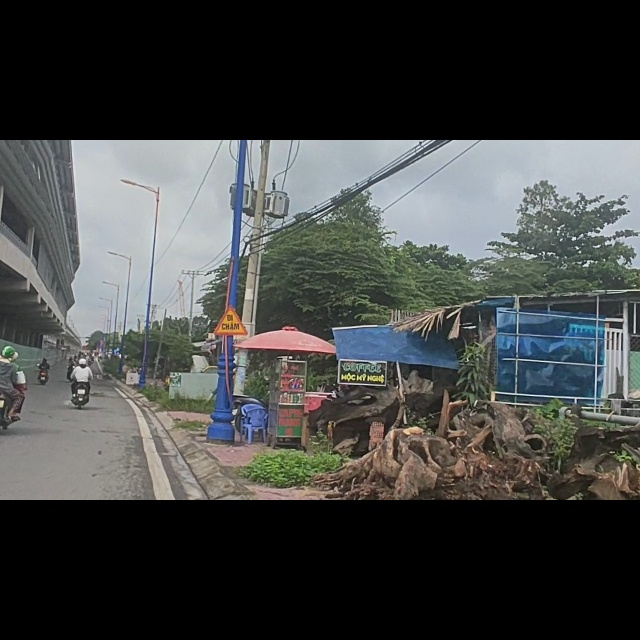bien_nguy_hiem: (211, 294, 250, 350)
